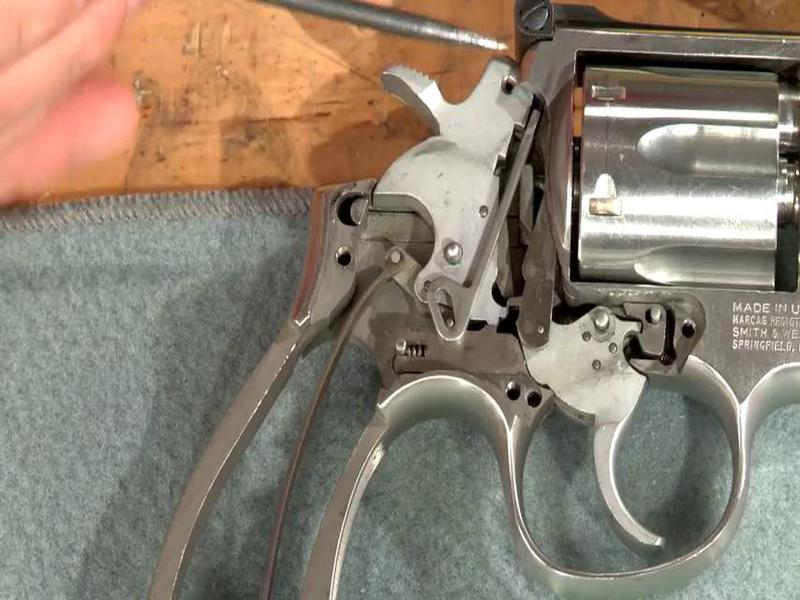Revolver: (249, 4, 800, 545)
